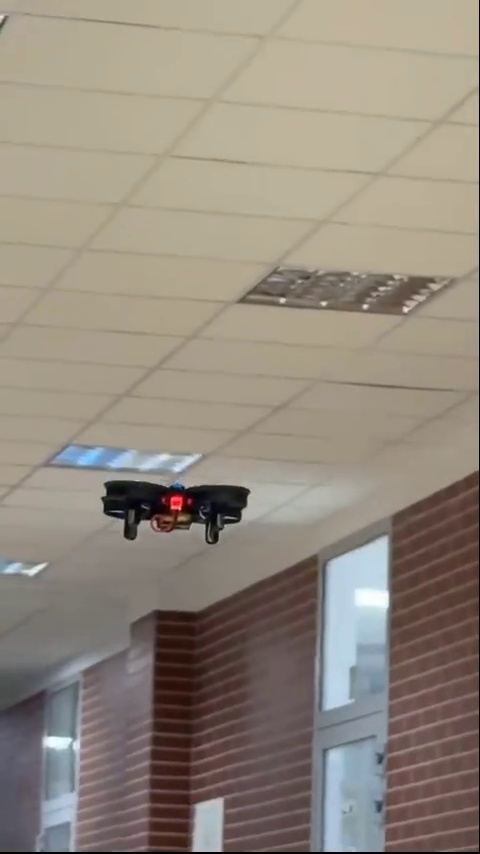drone: (99, 476, 248, 548)
